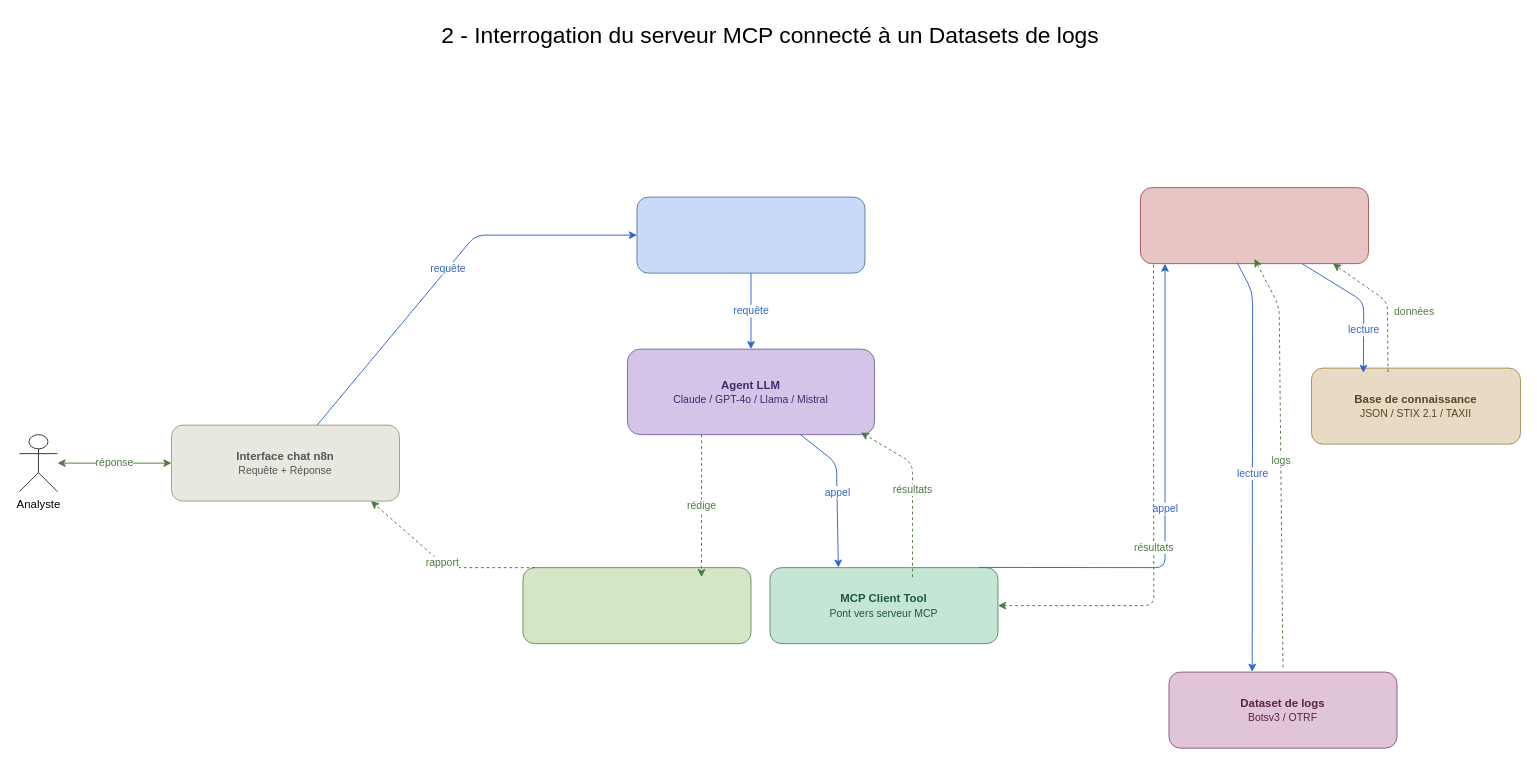
Some shapes in this 1537 by 765 pixel diagram are drawn without their labels. The shapes that lost their labels are listed below. From the top down, each one's centre as x and y in pixels, then its label:
(x=750, y=234): Chat Trigger Réception requête
(x=1254, y=225): Serveur MCP MITRE Python — externe
(x=636, y=605): Rédaction rapport Par l'Agent LLM
